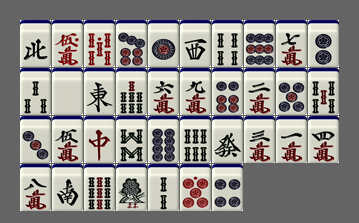0m: (52, 20, 83, 67)
0p: (180, 164, 211, 211)
0s: (84, 20, 115, 67)
1m: (276, 116, 307, 163)
1p: (148, 20, 179, 67)
1s: (116, 164, 147, 211)
1z: (84, 68, 115, 115)
2m: (244, 68, 275, 115)
2p: (308, 20, 339, 67)
2s: (148, 164, 179, 211)
2z: (52, 164, 83, 211)
3m: (244, 116, 275, 163)
3p: (20, 116, 51, 163)
3s: (20, 68, 51, 115)
3z: (180, 20, 211, 67)
4m: (308, 116, 339, 163)
4p: (212, 164, 243, 211)
4s: (212, 20, 243, 67)
4z: (20, 20, 51, 67)
5m: (52, 116, 83, 163)
5p: (276, 68, 307, 115)
5s: (308, 68, 339, 115)
5z: (52, 68, 83, 115)
6m: (148, 68, 179, 115)
6p: (212, 68, 243, 115)
6s: (180, 116, 211, 163)
6z: (212, 116, 243, 163)
7m: (276, 20, 307, 67)
7p: (116, 20, 147, 67)
7s: (116, 68, 147, 115)
7z: (84, 116, 115, 163)
8m: (20, 164, 51, 211)
8p: (148, 116, 179, 163)
8s: (116, 116, 147, 163)
9m: (180, 68, 211, 115)
9p: (244, 20, 275, 67)
9s: (84, 164, 115, 211)
